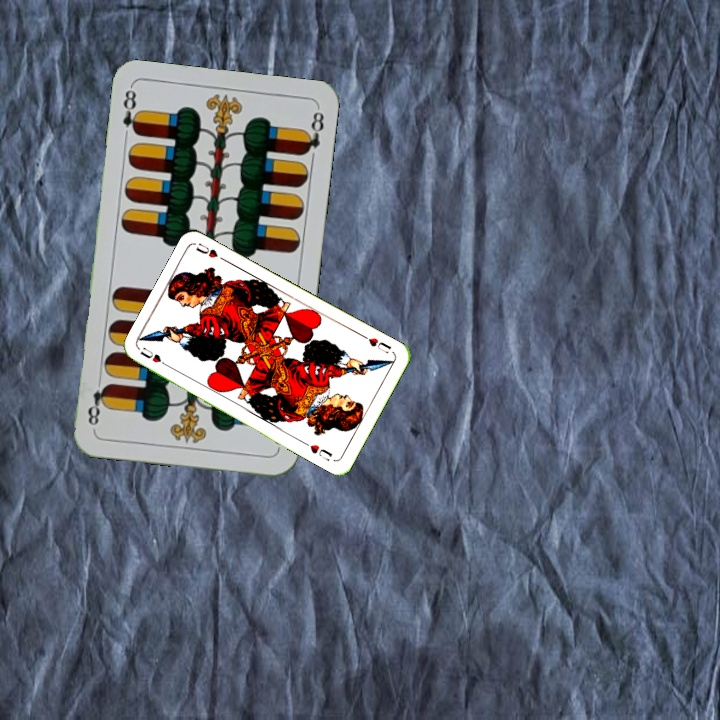E8: (118, 84, 143, 138)
HU: (136, 343, 173, 370), (358, 331, 394, 356)
